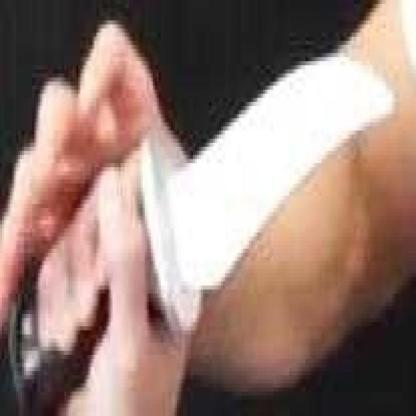Knife: (5, 31, 398, 410)
